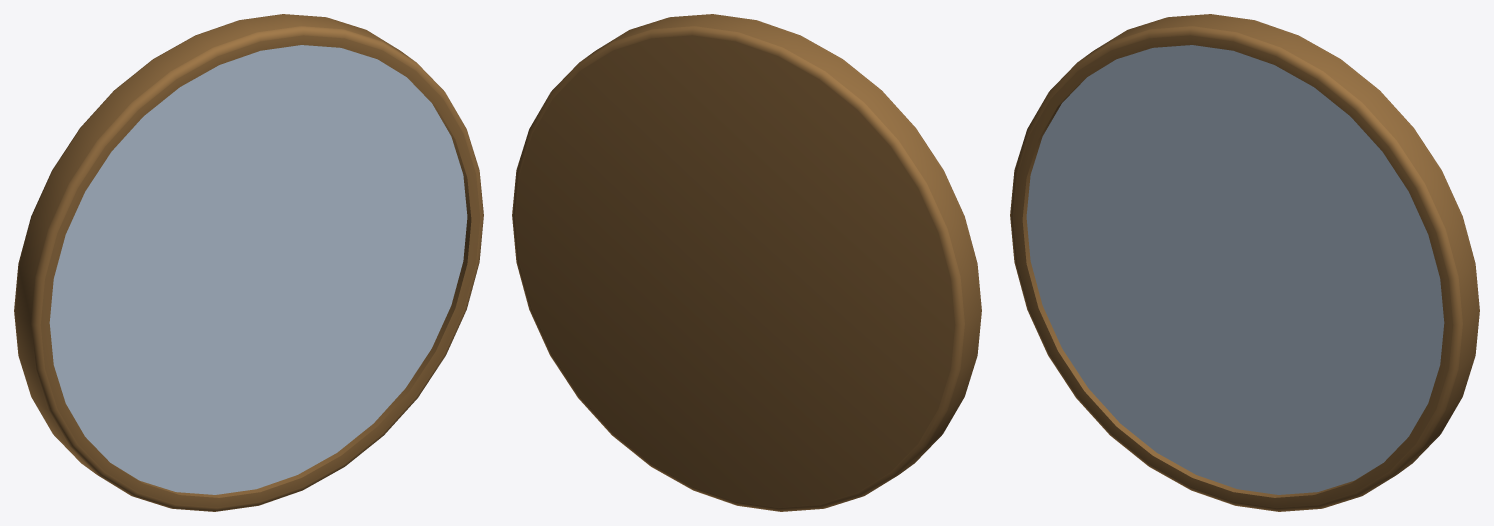
File: Mirror.fbx
3 renders of one model, left to right at view 1: azimuth 30°, elevation 25°; view 2: azimuth 150°, elevation 25°; view 3: azimuth 330°, elevation 25°, orthographic.
Parts seen in each view (by area): view 1: Mirror; view 2: Mirror; view 3: Mirror.
Boxes of the visible parts, x1,y1,x2,y2 form: Mirror: [14, 14, 483, 511]; Mirror: [512, 14, 981, 511]; Mirror: [1010, 14, 1479, 511].
Size of the model in its own units: 355 by 355 by 31.52.
